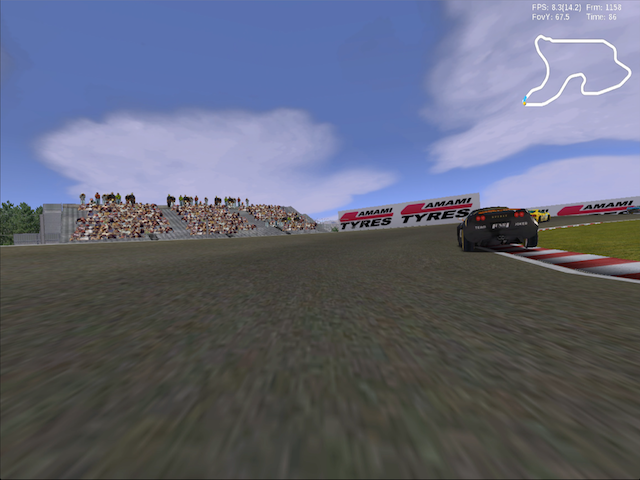Cavallo360: (527, 209, 552, 223)
Spirit300: (455, 206, 540, 252)
